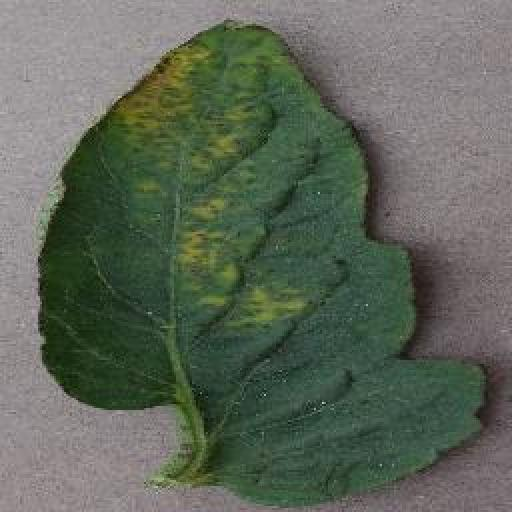Bacterial Spot: (35, 13, 496, 512)
